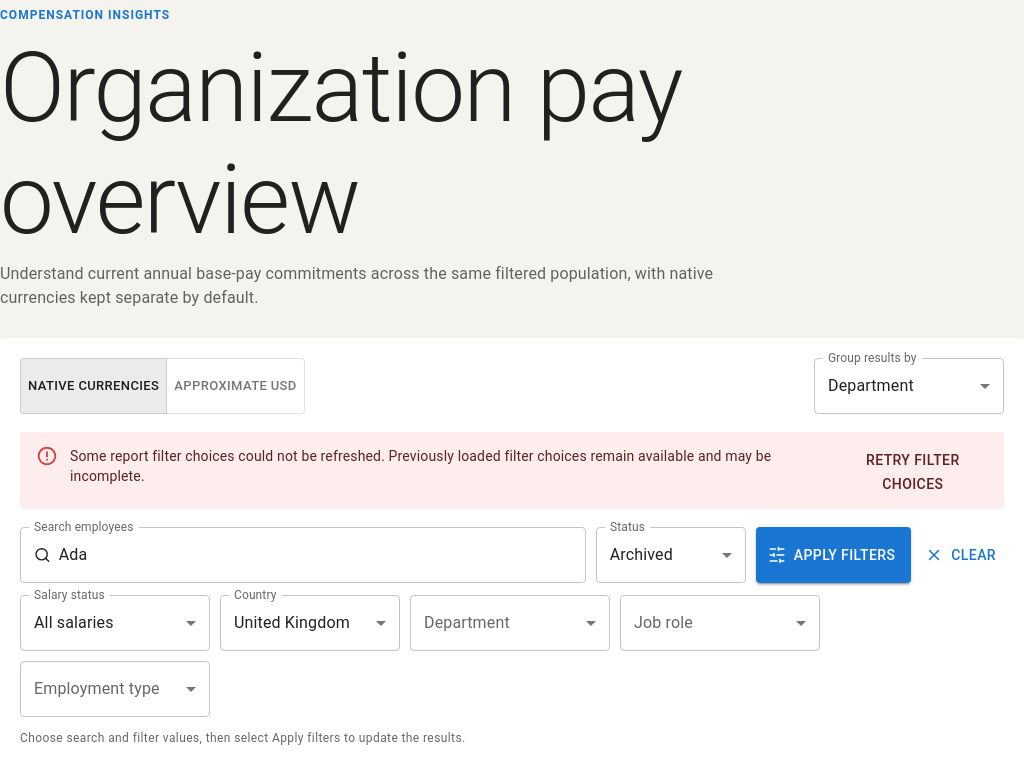
Test case: InsightsDashboard filter choices › retains report filters and drafts while failed cached choices recover on retry
Expected: the text "previously loaded filter choices remain available" is shown, [70, 448, 771, 484]
Expected: the dropdown named "Country" reads "United Kingdom", [234, 614, 350, 632]
Replace the text in the field labelled "Search employees" with "Draft search": (322, 555) [59, 527, 586, 583]
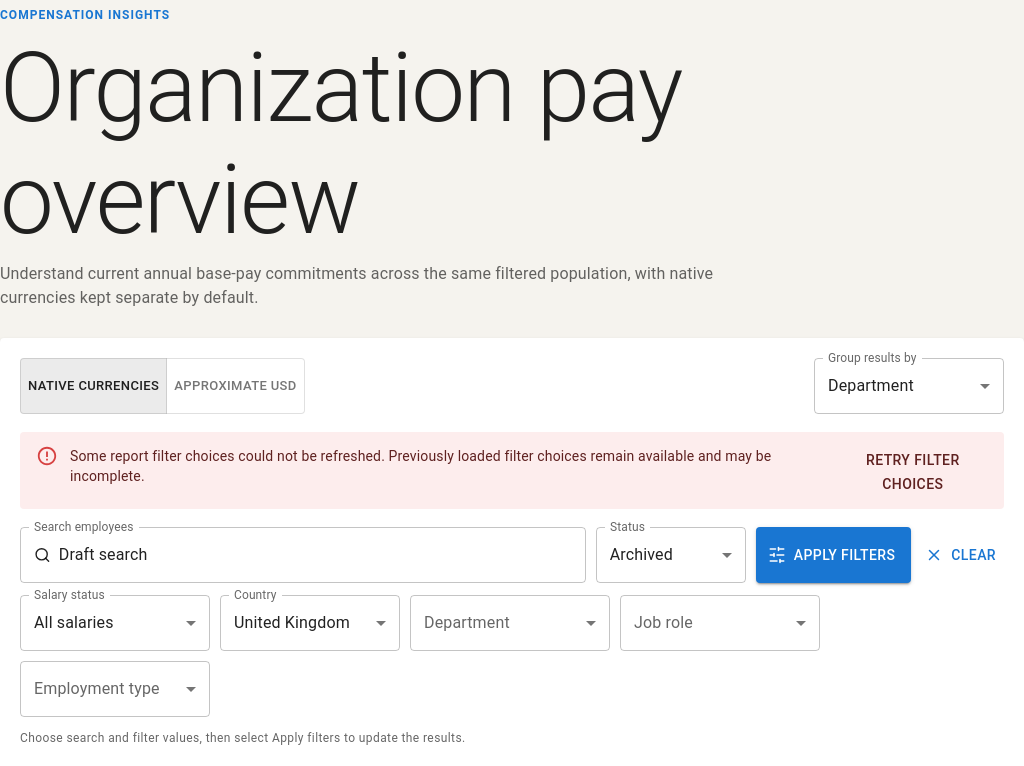
Click the button "Retry filter choices": (913, 472) [830, 442, 996, 503]
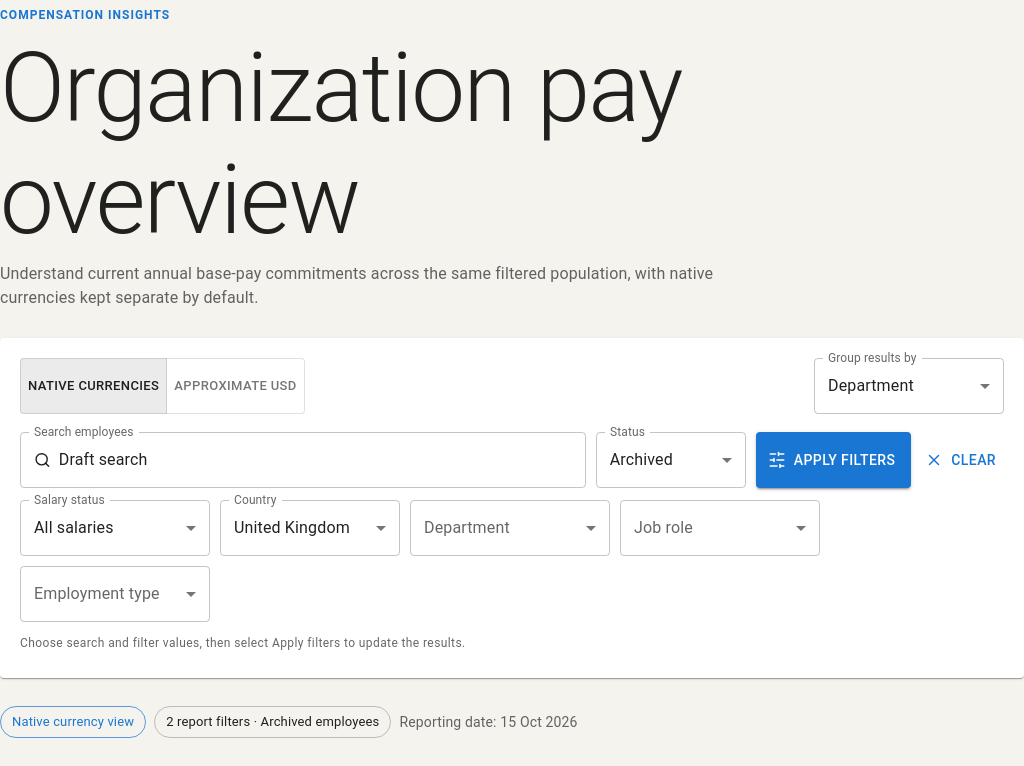
Expected: the dropdown named "Status" reads "Archived", [610, 450, 673, 470]
Expected: the text "previously loaded filter choices remain available" is gone
Press the mouse on the 1st dropdown named "Department": (510, 528) [410, 500, 610, 556]
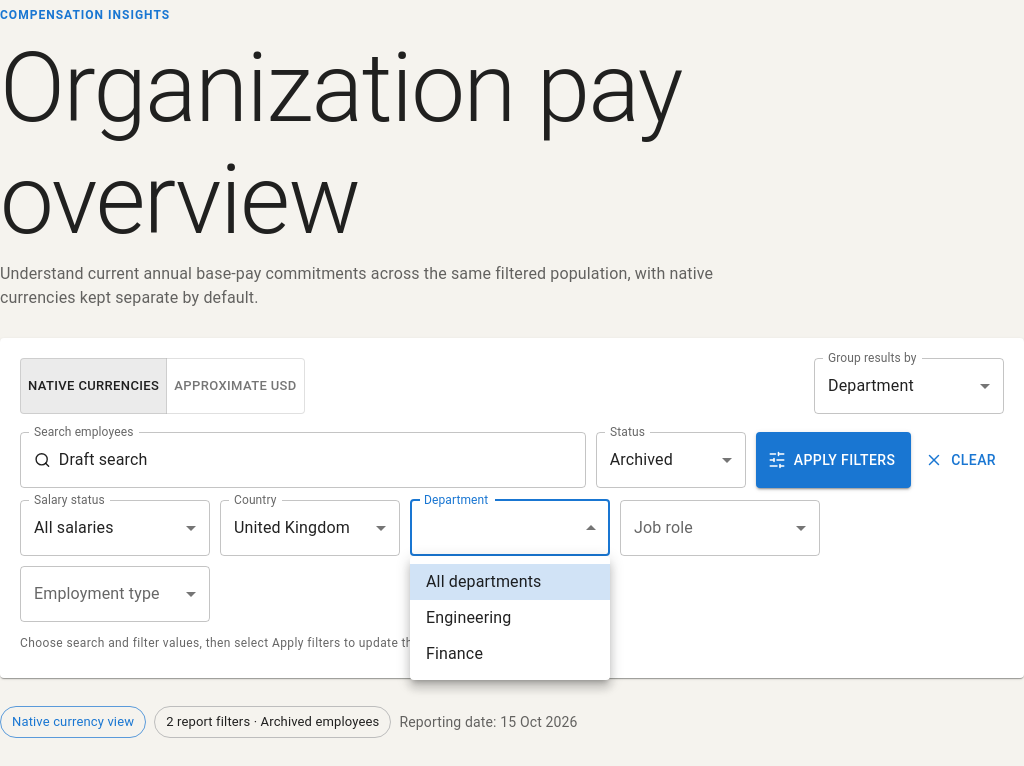
Expected: the option "Finance" is shown, [426, 644, 483, 663]
